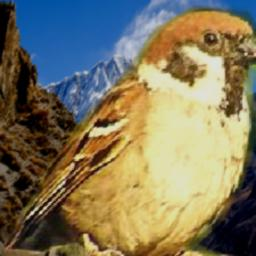Sparrow: (5, 6, 256, 256)
